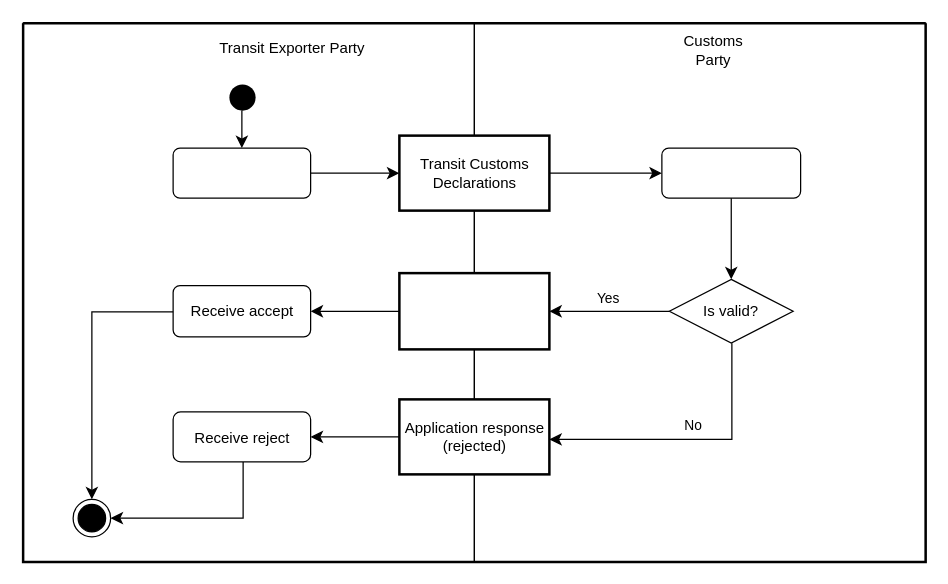
Image size: 948x584. Some labels were removed from this diagram. Each missing label, with the centre of its shape:
"Application response (approved)" belongs at pixel 474 310.
"Issue Transit Declaration" belongs at pixel 241 172.
"Receive Transit Declaration" belongs at pixel 731 172.
